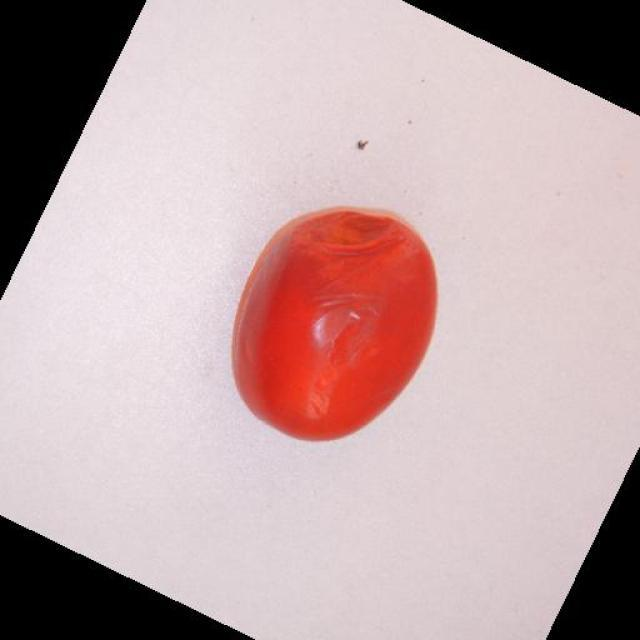Rotten Tomato: (233, 202, 442, 447)
